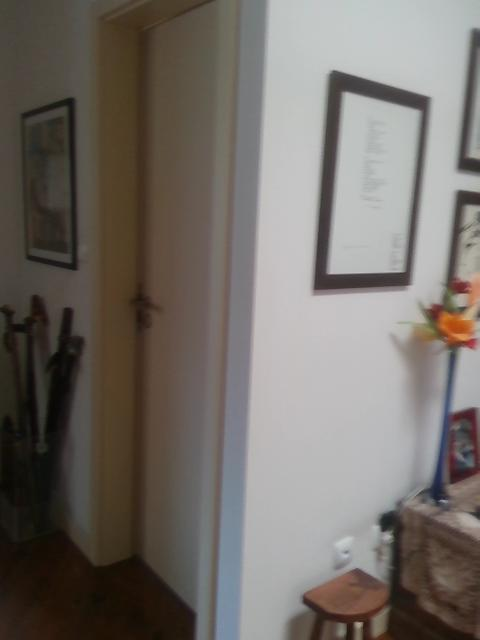door: (128, 1, 210, 616)
